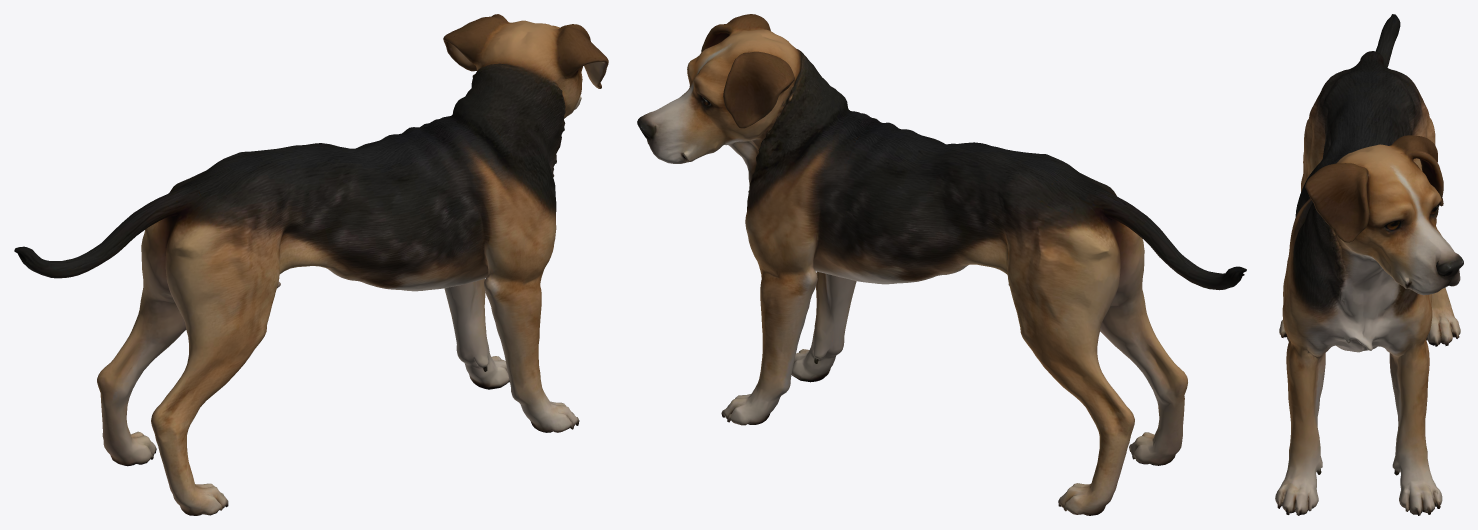
Rendered from dog-droop-ear-medium.glb.
3 views of the same model, side by side, from view 1: azimuth 30°, elevation 25°; view 2: azimuth 150°, elevation 25°; view 3: azimuth 270°, elevation 25° (orthographic).
Parts seen in each view (by area): view 1: tripo_node_87b1b4d4-7997-478e-a8c1-be21e70c4308; view 2: tripo_node_87b1b4d4-7997-478e-a8c1-be21e70c4308; view 3: tripo_node_87b1b4d4-7997-478e-a8c1-be21e70c4308.
Part boxes in pixels (<box>): tripo_node_87b1b4d4-7997-478e-a8c1-be21e70c4308: <box>14,14,608,515</box>; tripo_node_87b1b4d4-7997-478e-a8c1-be21e70c4308: <box>637,14,1246,515</box>; tripo_node_87b1b4d4-7997-478e-a8c1-be21e70c4308: <box>1275,14,1463,515</box>.
Bounding box in the file's own units: 0.9115 × 0.55 × 0.2579.
1 material, 1 textured.
